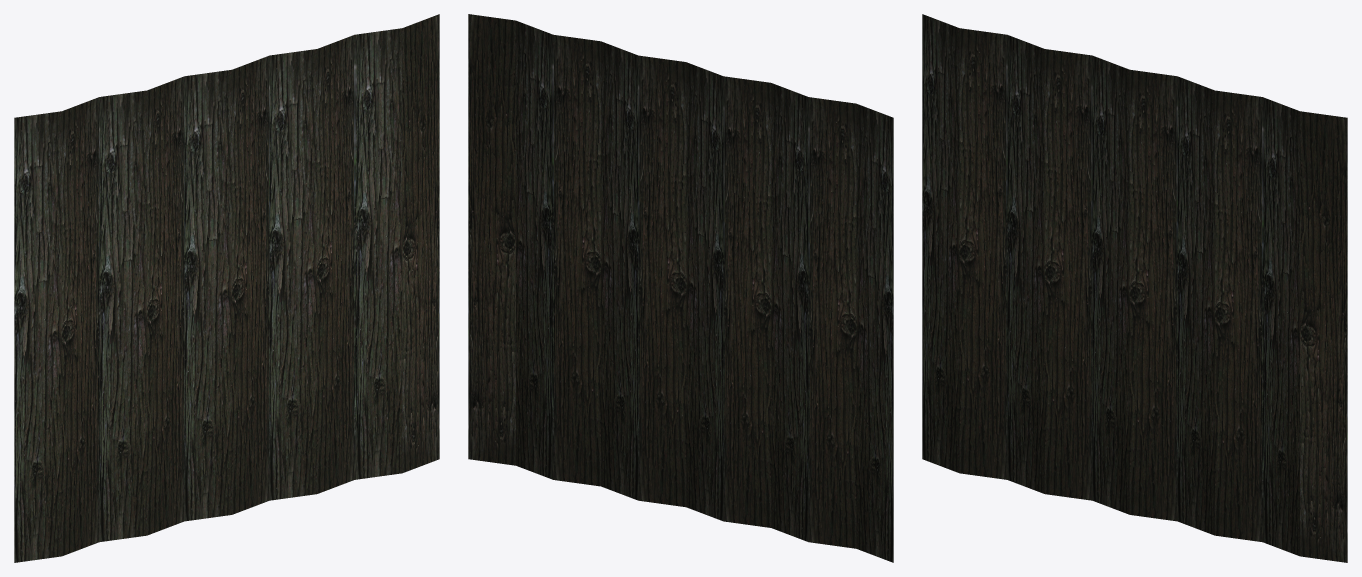
Rendered from TreePlane.glb.
3 views of the same model, side by side, from view 1: azimuth 30°, elevation 25°; view 2: azimuth 150°, elevation 25°; view 3: azimuth 330°, elevation 25° (orthographic).
Visible parts, largest first — view 1: Plane; view 2: Plane; view 3: Plane.
Part boxes in pixels (bbox=[...]): Plane: bbox=[14, 14, 439, 562]; Plane: bbox=[468, 14, 893, 562]; Plane: bbox=[922, 14, 1347, 562].
Bounding box in the file's own units: 20 × 20 × 0.4233.
1 material, 1 textured.
